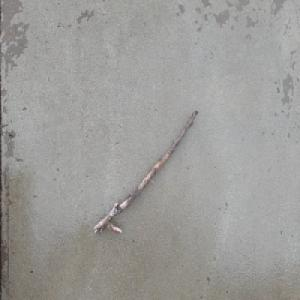Wood: (91, 107, 200, 236)
